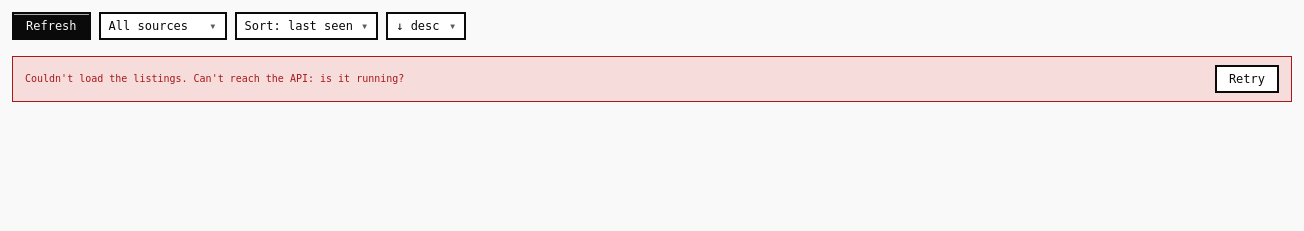
it: <ListingsPage> when the API is down › shows the alert, not "No listings yet", and Retry loads the table
Expected: the message shows "Couldn't load the listings. Can't reach the API: is it running?", 25,73 -> 404,84
What coordinates should you click on to do the following:
click the button "Retry"
I would click on:
 (1247, 79)
Its box is 1215,65 -> 1279,93.
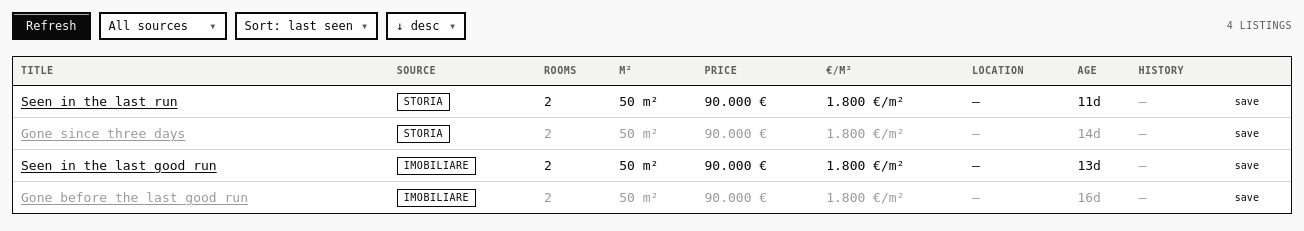
Expected: the link "Seen in the last run" is shown, 21,94 -> 178,108
Expected: the message "Couldn't load the listings. Can't reach the API: is it running? Retry" is gone
